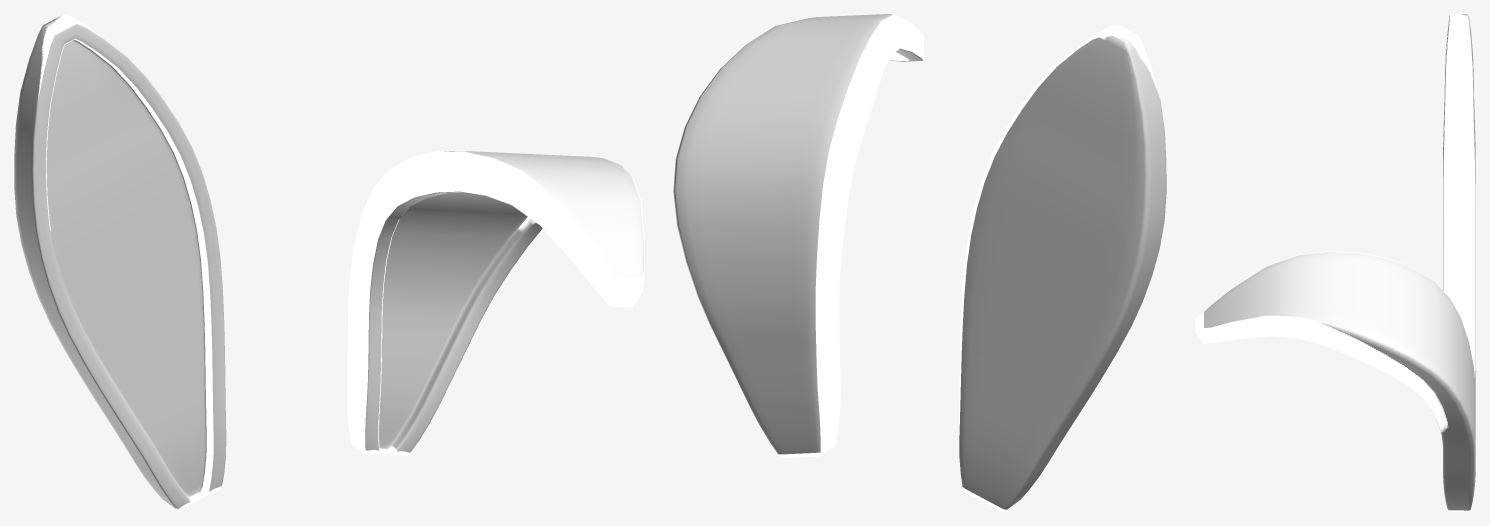
Rendered from HelmetDesign4OnlyBunnyEars.fbx.
3 views of the same model, side by side, from view 1: azimuth 30°, elevation 25°; view 2: azimuth 150°, elevation 25°; view 3: azimuth 270°, elevation 25° (orthographic). The views are drawn at different scales.
Visible parts, largest first — view 1: group6_pCube12; view 2: group6_pCube12; view 3: group6_pCube12.
Boxes of the visible parts, <box> form: group6_pCube12: <box>14,14,644,511</box>; group6_pCube12: <box>673,14,1166,511</box>; group6_pCube12: <box>1195,14,1475,511</box>.
Size of the model in its own units: 5.68 by 5.4 by 3.65.
